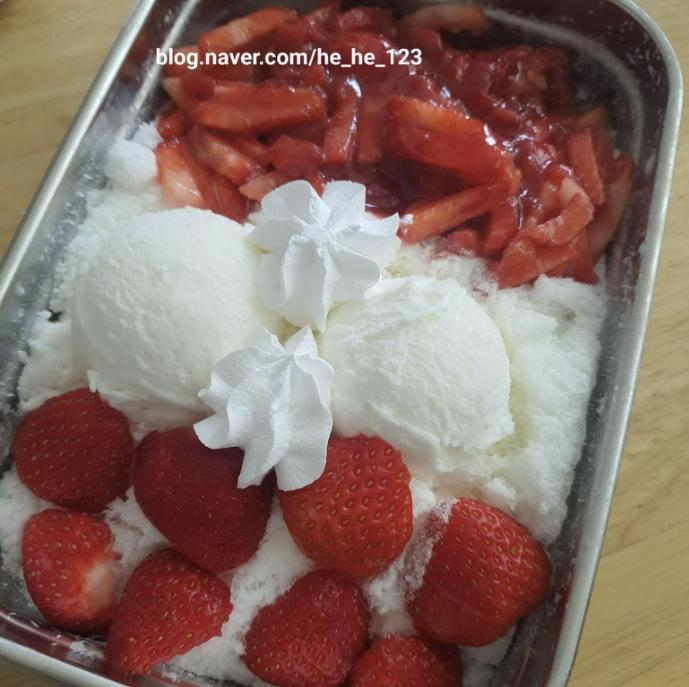Lunch Box: (0, 0, 682, 686)
